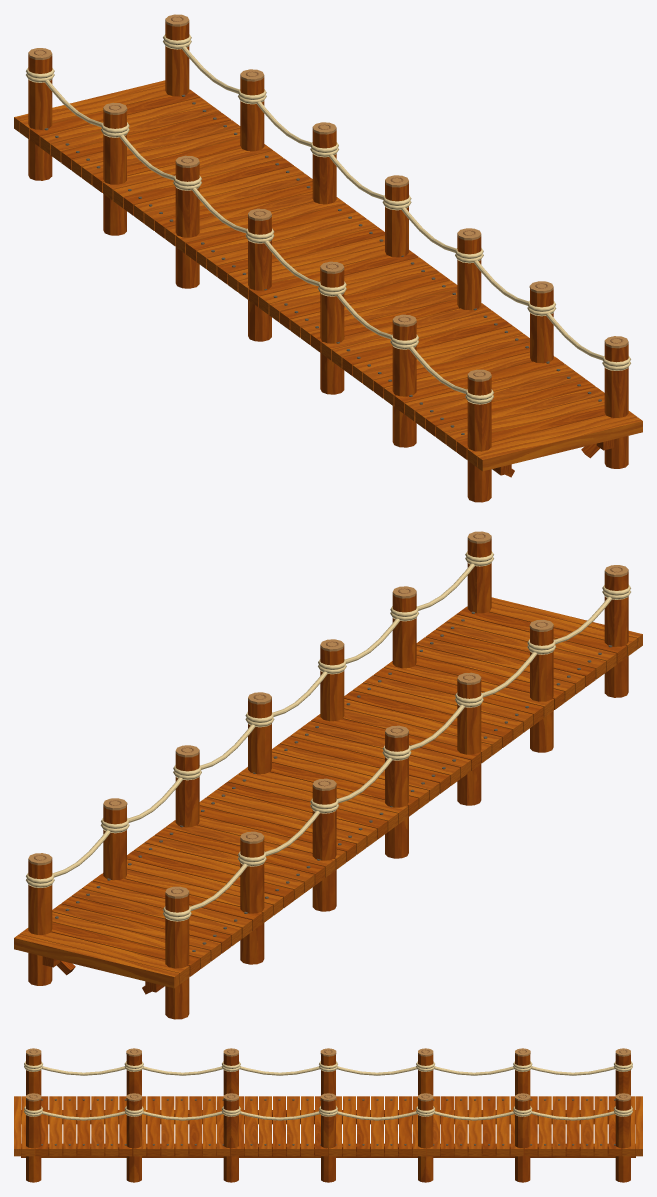
Rendered from wooden-bridge-9.gltf.
3 renders of one model, top to bottom at view 1: azimuth 30°, elevation 25°; view 2: azimuth 150°, elevation 25°; view 3: azimuth 270°, elevation 25°, orthographic. The views are drawn at different scales.
Visible parts, largest first — view 1: wooden-bridge-9; view 2: wooden-bridge-9; view 3: wooden-bridge-9.
Part boxes in pixels (<box>): wooden-bridge-9: <box>14,14,642,502</box>; wooden-bridge-9: <box>14,531,642,1019</box>; wooden-bridge-9: <box>14,1048,642,1182</box>.
Bounding box in the file's own units: 1.8 × 1.31 × 9.
2 materials, 1 textured.
